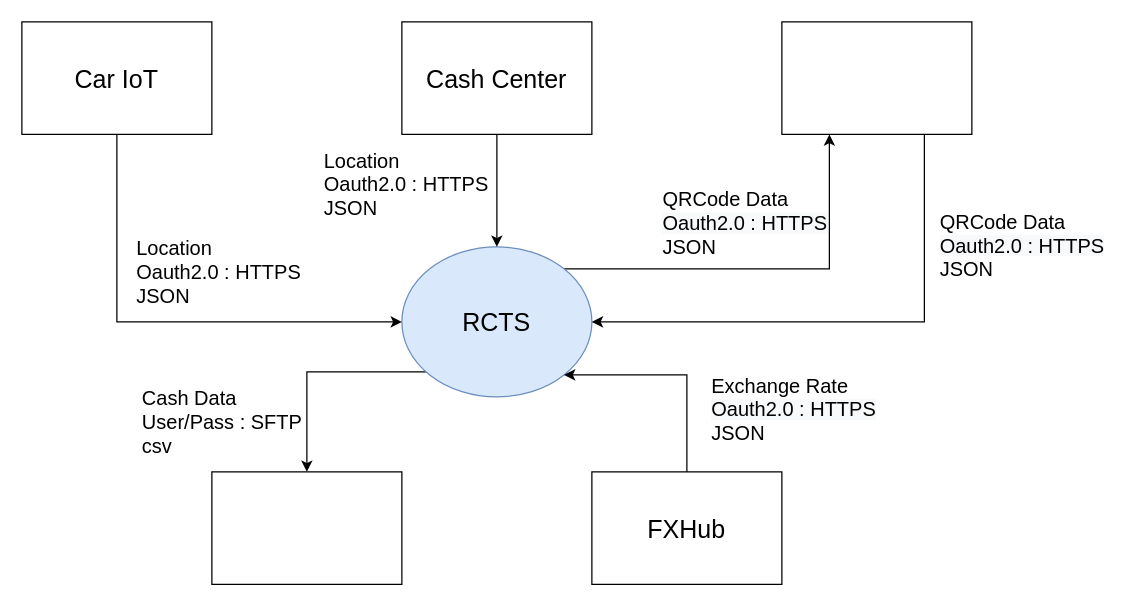
Image size: 1126x606. Some labels were removed from this diagram. Each missing label, with the centre of its shape:
DPTeller: the point at 876,77
RAE server: the point at 306,527
